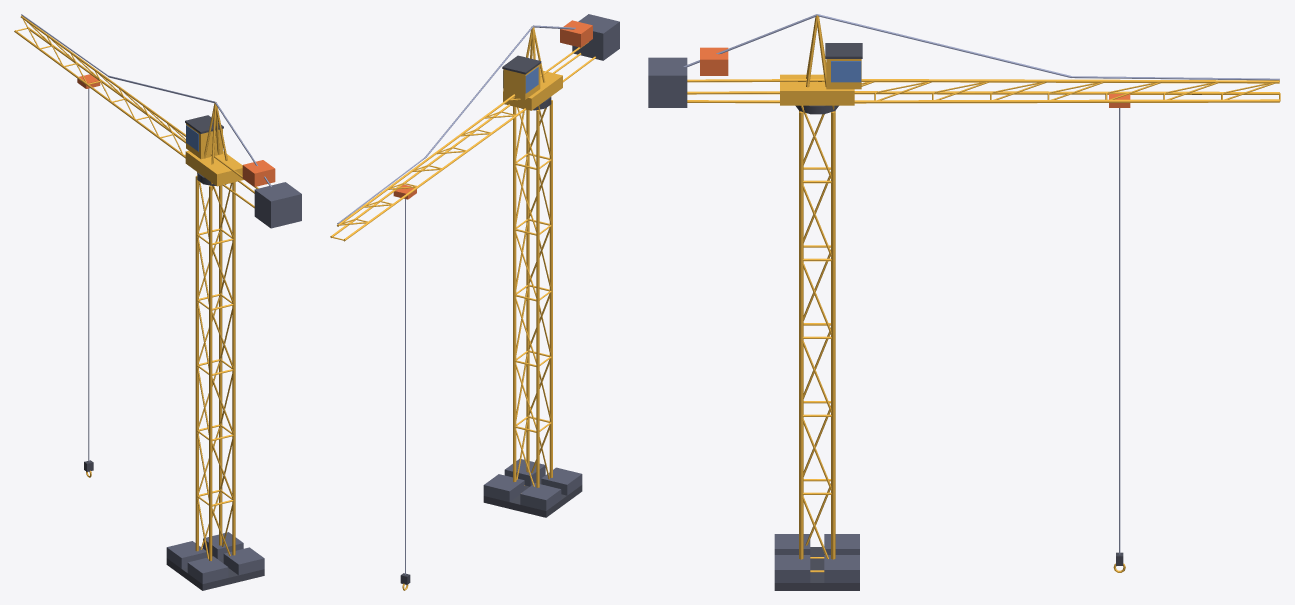
Rendered from grue-tour.glb.
3 views of the same model, side by side, from view 1: azimuth 30°, elevation 25°; view 2: azimuth 150°, elevation 25°; view 3: azimuth 270°, elevation 25° (orthographic). The views are drawn at different scales.
Parts seen in each view (by area): view 1: contrepoids, montant-3, montant-2, montant-0, montant-1, chassis-tourelle, lest--11, lest-11, embase, cable, lest--1-1, treuil (+6 smaller); view 2: montant-0, montant-1, montant-3, contrepoids, montant-2, chassis-tourelle, embase, lest--1-1, lest-1-1, cabine, lest--11, treuil (+5 smaller); view 3: montant-1, montant-2, contrepoids, chassis-tourelle, membrure-basse-d, membrure-haute, membrure-basse-g, embase, lest-11, lest-1-1, cable, treuil.
Part boxes in pixels (left/top/right/bottom): contrepoids: left=254, top=182, right=301, bottom=228; montant-3: left=209, top=185, right=212, bottom=560; montant-2: left=232, top=182, right=235, bottom=555; montant-0: left=195, top=175, right=198, bottom=551; montant-1: left=219, top=185, right=222, bottom=545; chassis-tourelle: left=185, top=150, right=243, bottom=186; lest--11: left=187, top=556, right=228, bottom=584; lest-11: left=223, top=547, right=264, bottom=575; embase: left=166, top=553, right=264, bottom=590; cable: left=88, top=88, right=89, bottom=462; lest--1-1: left=166, top=541, right=207, bottom=568; treuil: left=242, top=160, right=275, bottom=186; montant-0: left=536, top=110, right=539, bottom=487; montant-1: left=513, top=106, right=516, bottom=481; montant-3: left=549, top=100, right=552, bottom=477; contrepoids: left=572, top=14, right=619, bottom=60; montant-2: left=526, top=109, right=529, bottom=472; chassis-tourelle: left=503, top=70, right=562, bottom=110; embase: left=483, top=479, right=582, bottom=517; lest--1-1: left=520, top=483, right=561, bottom=510; lest-1-1: left=483, top=474, right=524, bottom=501; cabine: left=503, top=64, right=540, bottom=99; lest--11: left=541, top=467, right=582, bottom=495; treuil: left=560, top=20, right=592, bottom=47; montant-1: left=831, top=111, right=835, bottom=559; montant-2: left=799, top=111, right=803, bottom=559; contrepoids: left=648, top=57, right=687, bottom=107; chassis-tourelle: left=780, top=74, right=854, bottom=105; membrure-basse-d: left=854, top=99, right=1279, bottom=103; membrure-haute: left=817, top=78, right=1279, bottom=83; membrure-basse-g: left=854, top=91, right=1279, bottom=94; embase: left=774, top=547, right=859, bottom=590; lest-11: left=774, top=555, right=810, bottom=582; lest-1-1: left=824, top=555, right=859, bottom=582; cable: left=1119, top=108, right=1120, bottom=554; treuil: left=700, top=47, right=728, bottom=75.
Size of the model in its own units: 0.24 by 1.73 by 1.78.
